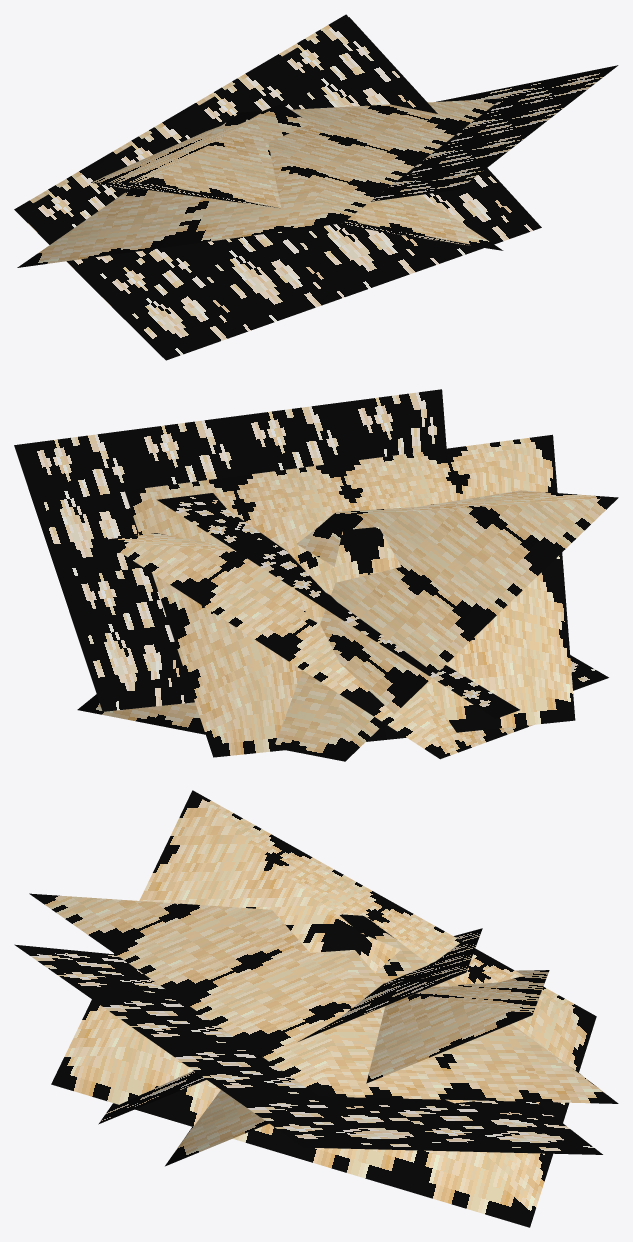
3 renders of one model, top to bottom at view 1: azimuth 30°, elevation 25°; view 2: azimuth 150°, elevation 25°; view 3: azimuth 270°, elevation 25°, orthographic. The views are drawn at different scales.
Visible parts, largest first — view 1: ef_746; view 2: ef_746; view 3: ef_746.
Part boxes in pixels (bbox=[...]): ef_746: bbox=[14, 14, 618, 360]; ef_746: bbox=[14, 389, 618, 761]; ef_746: bbox=[14, 790, 618, 1227].
Bounding box in the file's own units: 0.3599 × 0.1245 × 0.2788.
Materials: 2 (2 with a texture image).
